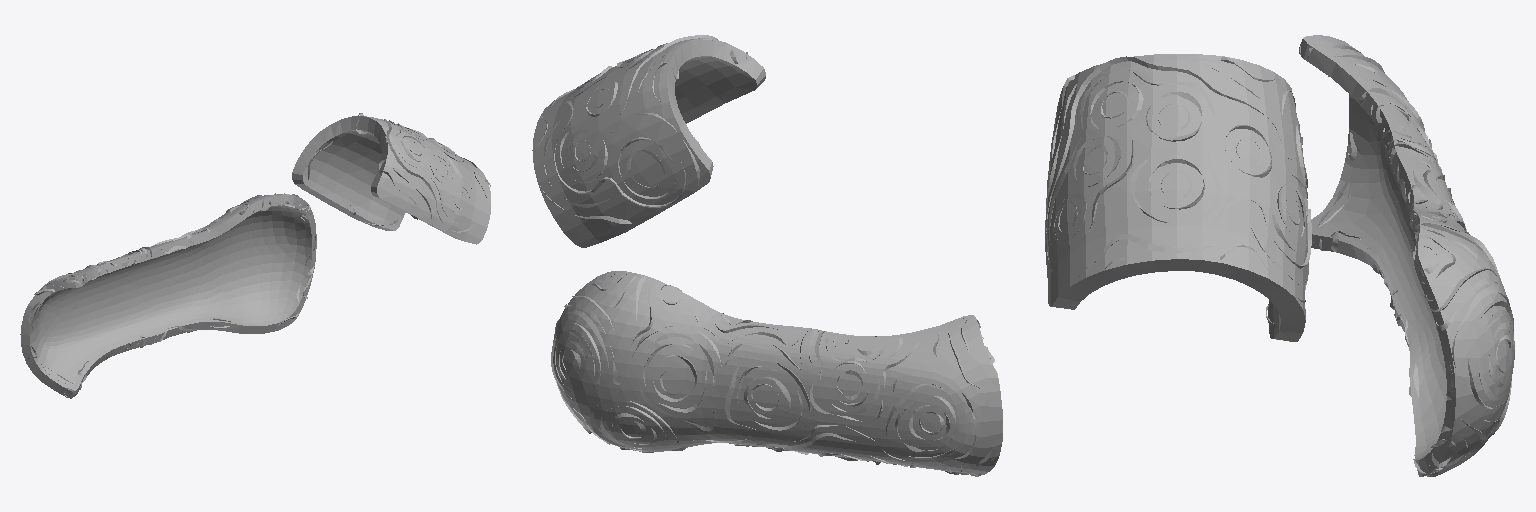
robot.urdf — fr3:
<?xml version="1.0" ?>
<!-- =================================================================================== -->
<!-- |    This document was autogenerated by xacro from src/gentact_ros_tools/urdf/robot/fr3_full_skin.xacro | -->
<!-- |    EDITING THIS FILE BY HAND IS NOT RECOMMENDED                                 | -->
<!-- =================================================================================== -->
<!-- =================================================================================== -->
<!-- |    This document was autogenerated by xacro from fr3.urdf.xacro                 | -->
<!-- |    EDITING THIS FILE BY HAND IS NOT RECOMMENDED                                 | -->
<!-- =================================================================================== -->
<robot name="fr3">
  <!-- safety_distance: Minimum safety distance in [m] by which the collision volumes are expanded and which is enforced during robot motions -->
  <!-- arm_id: Namespace of the robot arm. Serves to differentiate between arms in case of multiple instances. -->
  <!-- joint_limits: description of the joint limits that comes from a YAML file. Example definition: ${xacro.load_yaml('$(find gentact_ros_tools)/robots/fr3/joint_limits.yaml')} -->
  <!-- kinematics: description of the kinematics that comes from a YAML file. Example definition: ${xacro.load_yaml('$(find gentact_ros_tools)/robots/fr3/kinematics.yaml')} -->
  <!-- inertials: description of the inertials that comes from a YAML file. Example definition: ${xacro.load_yaml('$(find gentact_ros_tools)/robots/fr3/inertials.yaml')} -->
  <!-- dynamics: description of the dynamics that comes from a YAML file. Example definition: ${xacro.load_yaml('$(find gentact_ros_tools)/robots/fr3/dynamics.yaml')} -->
  <link name="base">
      </link>
  <joint name="fr3_base_joint" type="fixed">
    <parent link="base"/>
    <child link="fr3_link0"/>
    <origin rpy="0 0 0" xyz="0 0 0"/>
  </joint>
  <!-- sub-link defining detailed meshes for collision with environment -->
  <link name="fr3_link0">
    <visual name="fr3_link0_visual">
      <geometry>
        <mesh filename="package://gentact_ros_tools/meshes/robot_arms/fr3/visual/link0.dae"/>
      </geometry>
    </visual>
    <collision name="fr3_link0_collision">
      <geometry>
        <mesh filename="package://gentact_ros_tools/meshes/robot_arms/fr3/collision/link0.stl"/>
      </geometry>
    </collision>
    <inertial>
      <origin rpy="0 0 0" xyz="-0.0172 0.0004 0.0745"/>
      <mass value="2.3966"/>
      <inertia ixx="0.009" ixy="0.0" ixz="0.002" iyy="0.0115" iyz="0.0" izz="0.0085"/>
    </inertial>
  </link>
  <!-- sub-link defining detailed meshes for collision with environment -->
  <link name="fr3_link1">
    <visual name="fr3_link1_visual">
      <geometry>
        <mesh filename="package://gentact_ros_tools/meshes/robot_arms/fr3/visual/link1.dae"/>
      </geometry>
    </visual>
    <collision name="fr3_link1_collision">
      <geometry>
        <mesh filename="package://gentact_ros_tools/meshes/robot_arms/fr3/collision/link1.stl"/>
      </geometry>
    </collision>
    <inertial>
      <origin rpy="0 0 0" xyz="0.0000004128 -0.0181251324 -0.0386035970"/>
      <mass value="2.9274653454"/>
      <inertia ixx="0.023927316485107913" ixy="1.3317903455714081e-05" ixz="-0.00011404774918616684" iyy="0.0224821613275756" iyz="-0.0019950320628240115" izz="0.006350098258530016"/>
    </inertial>
  </link>
  <joint name="fr3_joint1" type="revolute">
    <origin rpy="0 0 0" xyz="0 0 0.333"/>
    <parent link="fr3_link0"/>
    <child link="fr3_link1"/>
    <axis xyz="0 0 1"/>
    <limit effort="87.0" lower="-2.7437" upper="2.7437" velocity="2.62"/>
    <safety_controller k_position="100.0" k_velocity="40.0" soft_lower_limit="-2.7437" soft_upper_limit="2.7437"/>
    <dynamics D="1" K="7000" damping="0.003" friction="0.2" mu_coulomb="0" mu_viscous="16"/>
  </joint>
  <!-- sub-link defining detailed meshes for collision with environment -->
  <link name="fr3_link2">
    <visual name="fr3_link2_visual">
      <geometry>
        <mesh filename="package://gentact_ros_tools/meshes/robot_arms/fr3/visual/link2.dae"/>
      </geometry>
    </visual>
    <collision name="fr3_link2_collision">
      <geometry>
        <mesh filename="package://gentact_ros_tools/meshes/robot_arms/fr3/collision/link2.stl"/>
      </geometry>
    </collision>
    <inertial>
      <origin rpy="0 0 0" xyz="0.0031828864 -0.0743221644 0.0088146084"/>
      <mass value="2.9355370338"/>
      <inertia ixx="0.041938946257609425" ixy="0.00020257331521090626" ixz="0.004077784227179924" iyy="0.02514514885014724" iyz="-0.0042252158006570156" izz="0.06170214472888839"/>
    </inertial>
  </link>
  <joint name="fr3_joint2" type="revolute">
    <origin rpy="-1.570796326794897 0 0" xyz="0 0 0"/>
    <parent link="fr3_link1"/>
    <child link="fr3_link2"/>
    <axis xyz="0 0 1"/>
    <limit effort="87.0" lower="-1.7837" upper="1.7837" velocity="2.62"/>
    <safety_controller k_position="100.0" k_velocity="40.0" soft_lower_limit="-1.7837" soft_upper_limit="1.7837"/>
    <dynamics D="1" K="7000" damping="0.003" friction="0.2" mu_coulomb="0" mu_viscous="16"/>
  </joint>
  <!-- sub-link defining detailed meshes for collision with environment -->
  <link name="fr3_link3">
    <visual name="fr3_link3_visual">
      <geometry>
        <mesh filename="package://gentact_ros_tools/meshes/robot_arms/fr3/visual/link3.dae"/>
      </geometry>
    </visual>
    <collision name="fr3_link3_collision">
      <geometry>
        <mesh filename="package://gentact_ros_tools/meshes/robot_arms/fr3/collision/link3.stl"/>
      </geometry>
    </collision>
    <inertial>
      <origin rpy="0 0 0" xyz="0.0407015686 -0.0048200565 -0.0289730823"/>
      <mass value="2.2449013699"/>
      <inertia ixx="0.02410142547240885" ixy="0.002404694559042109" ixz="-0.002856269270114313" iyy="0.01974053266708178" iyz="-0.002104212683891874" izz="0.019044494482244823"/>
    </inertial>
  </link>
  <joint name="fr3_joint3" type="revolute">
    <origin rpy="1.570796326794897 0 0" xyz="0 -0.316 0"/>
    <parent link="fr3_link2"/>
    <child link="fr3_link3"/>
    <axis xyz="0 0 1"/>
    <limit effort="87.0" lower="-2.9007" upper="2.9007" velocity="2.62"/>
    <safety_controller k_position="100.0" k_velocity="40.0" soft_lower_limit="-2.9007" soft_upper_limit="2.9007"/>
    <dynamics D="1" K="7000" damping="0.003" friction="0.2" mu_coulomb="0" mu_viscous="16"/>
  </joint>
  <!-- sub-link defining detailed meshes for collision with environment -->
  <link name="fr3_link4">
    <visual name="fr3_link4_visual">
      <geometry>
        <mesh filename="package://gentact_ros_tools/meshes/robot_arms/fr3/visual/link4.dae"/>
      </geometry>
    </visual>
    <collision name="fr3_link4_collision">
      <geometry>
        <mesh filename="package://gentact_ros_tools/meshes/robot_arms/fr3/collision/link4.stl"/>
      </geometry>
    </collision>
    <inertial>
      <origin rpy="0 0 0" xyz="-0.0459100965 0.0630492960 -0.0085187868"/>
      <mass value="2.6155955791"/>
      <inertia ixx="0.03452998321913202" ixy="0.01322552265982813" ixz="0.01015142998484113" iyy="0.028881621933049058" iyz="-0.0009762833870704552" izz="0.04125471171146641"/>
    </inertial>
  </link>
  <joint name="fr3_joint4" type="revolute">
    <origin rpy="1.570796326794897 0 0" xyz="0.0825 0 0"/>
    <parent link="fr3_link3"/>
    <child link="fr3_link4"/>
    <axis xyz="0 0 1"/>
    <limit effort="87.0" lower="-3.0421" upper="-0.1518" velocity="2.62"/>
    <safety_controller k_position="100.0" k_velocity="40.0" soft_lower_limit="-3.0421" soft_upper_limit="-0.1518"/>
    <dynamics D="1" K="7000" damping="0.003" friction="0.2" mu_coulomb="0" mu_viscous="16"/>
  </joint>
  <!-- sub-link defining detailed meshes for collision with environment -->
  <link name="fr3_link5">
    <visual name="fr3_link5_visual">
      <geometry>
        <mesh filename="package://gentact_ros_tools/meshes/robot_arms/fr3/visual/link5.dae"/>
      </geometry>
    </visual>
    <collision name="fr3_link5_collision">
      <geometry>
        <mesh filename="package://gentact_ros_tools/meshes/robot_arms/fr3/collision/link5.stl"/>
      </geometry>
    </collision>
    <inertial>
      <origin rpy="0 0 0" xyz="-0.0016039605 0.0292536262 -0.0972965990"/>
      <mass value="2.3271207594"/>
      <inertia ixx="0.051610278463662895" ixy="-0.005715173387783472" ixz="-0.0035673167625872135" iyy="0.04787729713371481" iyz="0.010673985108535986" izz="0.016423625579357254"/>
    </inertial>
  </link>
  <joint name="fr3_joint5" type="revolute">
    <origin rpy="-1.570796326794897 0 0" xyz="-0.0825 0.384 0"/>
    <parent link="fr3_link4"/>
    <child link="fr3_link5"/>
    <axis xyz="0 0 1"/>
    <limit effort="12.0" lower="-2.8065" upper="2.8065" velocity="5.26"/>
    <safety_controller k_position="100.0" k_velocity="40.0" soft_lower_limit="-2.8065" soft_upper_limit="2.8065"/>
    <dynamics D="1" K="7000" damping="0.003" friction="0.2" mu_coulomb="0" mu_viscous="16"/>
  </joint>
  <!-- [m] -->
  <link name="link5_skin">
    <visual>
      <origin rpy="0 0 0" xyz="0 0 0"/>
      <geometry>
        <mesh filename="package://gentact_ros_tools/meshes/skin/self-cap/link5_fancy.stl" scale="1 1 1"/>
      </geometry>
    </visual>
  </link>
  <joint name="link5_base_joint" type="fixed">
    <origin rpy="0 0 0" xyz="0 0 0"/>
    <parent link="fr3_link5"/>
    <child link="link5_skin"/>
  </joint>
  <joint name="link5_sensor_5_joint" type="fixed">
    <origin rpy="-1.403 -3.142 0.049" xyz="-0.004 0.115 -0.089"/>
    <axis xyz="-0.049 0.985 -0.167"/>
    <parent link="link5_skin"/>
    <child link="link5_sensor_5"/>
  </joint>
  <link name="link5_sensor_5">
    <visual>
      <geometry>
        <sphere radius="0.0"/>
        <!-- [m] -->
      </geometry>
    </visual>
    <collision>
      <geometry>
        <sphere radius="0.0"/>
        <!-- [m] -->
      </geometry>
    </collision>
  </link>
  <joint name="link5_sensor_1_joint" type="fixed">
    <origin rpy="-1.229 -3.142 0.054" xyz="-0.007 0.127 -0.038"/>
    <axis xyz="-0.05 0.941 -0.335"/>
    <parent link="link5_skin"/>
    <child link="link5_sensor_1"/>
  </joint>
  <link name="link5_sensor_1">
    <visual>
      <geometry>
        <sphere radius="0.0"/>
        <!-- [m] -->
      </geometry>
    </visual>
    <collision>
      <geometry>
        <sphere radius="0.0"/>
        <!-- [m] -->
      </geometry>
    </collision>
  </link>
  <joint name="link5_sensor_4_joint" type="fixed">
    <origin rpy="1.760 -0.000 2.750" xyz="0.026 0.130 -0.013"/>
    <axis xyz="0.375 0.908 -0.188"/>
    <parent link="link5_skin"/>
    <child link="link5_sensor_4"/>
  </joint>
  <link name="link5_sensor_4">
    <visual>
      <geometry>
        <sphere radius="0.0"/>
        <!-- [m] -->
      </geometry>
    </visual>
    <collision>
      <geometry>
        <sphere radius="0.0"/>
        <!-- [m] -->
      </geometry>
    </collision>
  </link>
  <joint name="link5_sensor_2_joint" type="fixed">
    <origin rpy="1.754 0.000 -2.906" xyz="-0.016 0.104 -0.138"/>
    <axis xyz="-0.23 0.956 -0.183"/>
    <parent link="link5_skin"/>
    <child link="link5_sensor_2"/>
  </joint>
  <link name="link5_sensor_2">
    <visual>
      <geometry>
        <sphere radius="0.0"/>
        <!-- [m] -->
      </geometry>
    </visual>
    <collision>
      <geometry>
        <sphere radius="0.0"/>
        <!-- [m] -->
      </geometry>
    </collision>
  </link>
  <joint name="link5_sensor_3_joint" type="fixed">
    <origin rpy="1.136 0.000 -3.040" xyz="-0.007 0.133 0.023"/>
    <axis xyz="-0.092 0.902 0.422"/>
    <parent link="link5_skin"/>
    <child link="link5_sensor_3"/>
  </joint>
  <link name="link5_sensor_3">
    <visual>
      <geometry>
        <sphere radius="0.0"/>
        <!-- [m] -->
      </geometry>
    </visual>
    <collision>
      <geometry>
        <sphere radius="0.0"/>
        <!-- [m] -->
      </geometry>
    </collision>
  </link>
  <joint name="link5_sensor_0_joint" type="fixed">
    <origin rpy="-1.262 3.142 0.019" xyz="-0.000 0.096 -0.184"/>
    <axis xyz="-0.018 0.953 -0.304"/>
    <parent link="link5_skin"/>
    <child link="link5_sensor_0"/>
  </joint>
  <link name="link5_sensor_0">
    <visual>
      <geometry>
        <sphere radius="0.0"/>
        <!-- [m] -->
      </geometry>
    </visual>
    <collision>
      <geometry>
        <sphere radius="0.0"/>
        <!-- [m] -->
      </geometry>
    </collision>
  </link>
  <!-- sub-link defining detailed meshes for collision with environment -->
  <link name="fr3_link6">
    <visual name="fr3_link6_visual">
      <geometry>
        <mesh filename="package://gentact_ros_tools/meshes/robot_arms/fr3/visual/link6.dae"/>
      </geometry>
    </visual>
    <collision name="fr3_link6_collision">
      <geometry>
        <mesh filename="package://gentact_ros_tools/meshes/robot_arms/fr3/collision/link6.stl"/>
      </geometry>
    </collision>
    <inertial>
      <origin rpy="0 0 0" xyz="0.0597131221 -0.0410294666 -0.0101692726"/>
      <mass value="1.8170376524"/>
      <inertia ixx="0.005412333594383447" ixy="0.006193456360285834" ixz="0.0014219289306117652" iyy="0.014058329545509979" iyz="-0.0013140753741120031" izz="0.016080817924212554"/>
    </inertial>
  </link>
  <joint name="fr3_joint6" type="revolute">
    <origin rpy="1.570796326794897 0 0" xyz="0 0 0"/>
    <parent link="fr3_link5"/>
    <child link="fr3_link6"/>
    <axis xyz="0 0 1"/>
    <limit effort="12.0" lower="0.5445" upper="4.5169" velocity="4.18"/>
    <safety_controller k_position="100.0" k_velocity="40.0" soft_lower_limit="0.5445" soft_upper_limit="4.5169"/>
    <dynamics D="1" K="7000" damping="0.003" friction="0.2" mu_coulomb="0" mu_viscous="16"/>
  </joint>
  <!-- [m] -->
  <link name="link6_skin">
    <visual>
      <origin rpy="0 0 0" xyz="0 0 0"/>
      <geometry>
        <mesh filename="package://gentact_ros_tools/meshes/skin/self-cap/link6_fancy.stl" scale="1 1 1"/>
      </geometry>
    </visual>
  </link>
  <joint name="link6_base_joint" type="fixed">
    <origin rpy="-1.57079632679 0 0" xyz="0 0 0"/>
    <parent link="fr3_link6"/>
    <child link="link6_skin"/>
  </joint>
  <joint name="link6_sensor_0_joint" type="fixed">
    <origin rpy="1.582 0.000 0.494" xyz="0.117 -0.045 -0.004"/>
    <axis xyz="0.474 -0.881 -0.011"/>
    <parent link="link6_skin"/>
    <child link="link6_sensor_0"/>
  </joint>
  <link name="link6_sensor_0">
    <visual>
      <geometry>
        <sphere radius="0.0"/>
        <!-- [m] -->
      </geometry>
    </visual>
    <collision>
      <geometry>
        <sphere radius="0.0"/>
        <!-- [m] -->
      </geometry>
    </collision>
  </link>
  <joint name="link6_sensor_1_joint" type="fixed">
    <origin rpy="1.451 0.000 1.101" xyz="0.133 -0.025 0.039"/>
    <axis xyz="0.885 -0.449 0.12"/>
    <parent link="link6_skin"/>
    <child link="link6_sensor_1"/>
  </joint>
  <link name="link6_sensor_1">
    <visual>
      <geometry>
        <sphere radius="0.0"/>
        <!-- [m] -->
      </geometry>
    </visual>
    <collision>
      <geometry>
        <sphere radius="0.0"/>
        <!-- [m] -->
      </geometry>
    </collision>
  </link>
  <joint name="link6_sensor_2_joint" type="fixed">
    <origin rpy="1.487 -0.000 1.464" xyz="0.140 -0.002 0.030"/>
    <axis xyz="0.991 -0.106 0.084"/>
    <parent link="link6_skin"/>
    <child link="link6_sensor_2"/>
  </joint>
  <link name="link6_sensor_2">
    <visual>
      <geometry>
        <sphere radius="0.0"/>
        <!-- [m] -->
      </geometry>
    </visual>
    <collision>
      <geometry>
        <sphere radius="0.0"/>
        <!-- [m] -->
      </geometry>
    </collision>
  </link>
  <joint name="link6_sensor_3_joint" type="fixed">
    <origin rpy="1.585 -0.000 2.644" xyz="0.113 0.047 0.002"/>
    <axis xyz="0.477 0.879 -0.015"/>
    <parent link="link6_skin"/>
    <child link="link6_sensor_3"/>
  </joint>
  <link name="link6_sensor_3">
    <visual>
      <geometry>
        <sphere radius="0.0"/>
        <!-- [m] -->
      </geometry>
    </visual>
    <collision>
      <geometry>
        <sphere radius="0.0"/>
        <!-- [m] -->
      </geometry>
    </collision>
  </link>
  <joint name="link6_sensor_4_joint" type="fixed">
    <origin rpy="1.533 -0.000 2.048" xyz="0.132 0.029 0.018"/>
    <axis xyz="0.888 0.459 0.037"/>
    <parent link="link6_skin"/>
    <child link="link6_sensor_4"/>
  </joint>
  <link name="link6_sensor_4">
    <visual>
      <geometry>
        <sphere radius="0.0"/>
        <!-- [m] -->
      </geometry>
    </visual>
    <collision>
      <geometry>
        <sphere radius="0.0"/>
        <!-- [m] -->
      </geometry>
    </collision>
  </link>
  <joint name="link6_sensor_5_joint" type="fixed">
    <origin rpy="1.581 -0.000 1.470" xyz="0.141 -0.001 -0.002"/>
    <axis xyz="0.995 -0.1 -0.01"/>
    <parent link="link6_skin"/>
    <child link="link6_sensor_5"/>
  </joint>
  <link name="link6_sensor_5">
    <visual>
      <geometry>
        <sphere radius="0.0"/>
        <!-- [m] -->
      </geometry>
    </visual>
    <collision>
      <geometry>
        <sphere radius="0.0"/>
        <!-- [m] -->
      </geometry>
    </collision>
  </link>
  <joint name="link6_sensor_6_joint" type="fixed">
    <origin rpy="1.541 -0.000 0.888" xyz="0.130 -0.033 0.015"/>
    <axis xyz="0.776 -0.631 0.03"/>
    <parent link="link6_skin"/>
    <child link="link6_sensor_6"/>
  </joint>
  <link name="link6_sensor_6">
    <visual>
      <geometry>
        <sphere radius="0.0"/>
        <!-- [m] -->
      </geometry>
    </visual>
    <collision>
      <geometry>
        <sphere radius="0.0"/>
        <!-- [m] -->
      </geometry>
    </collision>
  </link>
  <joint name="link6_sensor_7_joint" type="fixed">
    <origin rpy="1.488 0.000 -3.049" xyz="0.087 0.051 0.036"/>
    <axis xyz="-0.092 0.992 0.083"/>
    <parent link="link6_skin"/>
    <child link="link6_sensor_7"/>
  </joint>
  <link name="link6_sensor_7">
    <visual>
      <geometry>
        <sphere radius="0.0"/>
        <!-- [m] -->
      </geometry>
    </visual>
    <collision>
      <geometry>
        <sphere radius="0.0"/>
        <!-- [m] -->
      </geometry>
    </collision>
  </link>
  <!-- sub-link defining detailed meshes for collision with environment -->
  <link name="fr3_link7">
    <visual name="fr3_link7_visual">
      <geometry>
        <mesh filename="package://gentact_ros_tools/meshes/robot_arms/fr3/visual/link7.dae"/>
      </geometry>
    </visual>
    <collision name="fr3_link7_collision">
      <geometry>
        <mesh filename="package://gentact_ros_tools/meshes/robot_arms/fr3/collision/link7.stl"/>
      </geometry>
    </collision>
    <inertial>
      <origin rpy="0 0 0" xyz="0.0045225817 0.0086261921 -0.0161633251"/>
      <mass value="0.6271432862"/>
      <inertia ixx="0.00021092389150104718" ixy="-2.433299114461931e-05" ixz="4.564480393778983e-05" iyy="0.00017718568002411474" iyz="8.744070223226438e-05" izz="5.993190599659971e-05"/>
    </inertial>
  </link>
  <joint name="fr3_joint7" type="revolute">
    <origin rpy="1.570796326794897 0 0" xyz="0.088 0 0"/>
    <parent link="fr3_link6"/>
    <child link="fr3_link7"/>
    <axis xyz="0 0 1"/>
    <limit effort="12.0" lower="-3.0159" upper="3.0159" velocity="5.26"/>
    <safety_controller k_position="100.0" k_velocity="40.0" soft_lower_limit="-3.0159" soft_upper_limit="3.0159"/>
    <dynamics D="1" K="7000" damping="0.003" friction="0.2" mu_coulomb="0" mu_viscous="16"/>
  </joint>
</robot>

--- Facts derived from the render (not from the file) ---
Views: 3 orthographic renders of the robot side by side, from view 1: azimuth 30°, elevation 25°; view 2: azimuth 150°, elevation 25°; view 3: azimuth 270°, elevation 25°.
Robot: fr3 — 25 links, 24 joints (7 revolute, 17 fixed); root link base; default pose: all joints at 0 but 2 set to mid-range because 0 is outside their limits (fr3_joint4 = -1.6, fr3_joint6 = 2.53).
Links seen in each view (by area): view 1: link5_skin, link6_skin; view 2: link5_skin, link6_skin; view 3: link6_skin, link5_skin.
Boxes of the visible links, x1,y1,x2,y2 form: link5_skin: (20,193,316,398); link6_skin: (292,113,490,244); link5_skin: (551,271,1002,476); link6_skin: (532,35,765,247); link6_skin: (1045,54,1311,341); link5_skin: (1299,35,1514,476).
Size in the robot's own frame: 0.3293 by 0.1906 by 0.1982 metres.
Meshes: 10 distinct files referenced, 2 mesh visuals loaded (2 binary STL); not drawn: 8 (reference not matched to a file when rendering).
